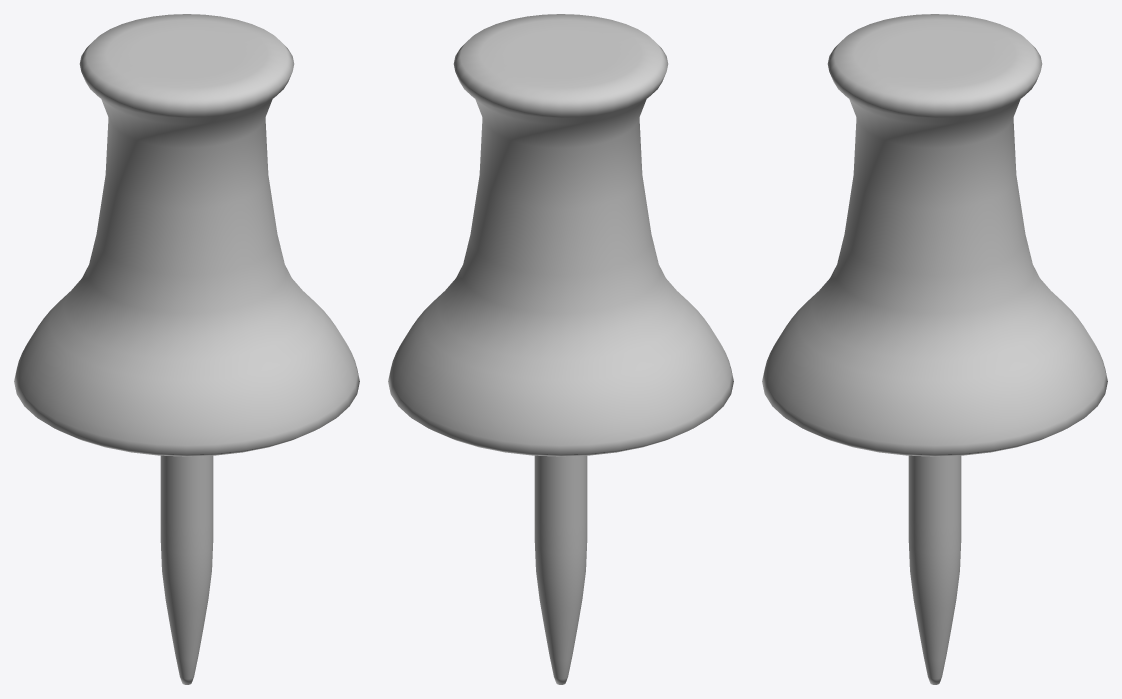
The model's file is pin.dae.
The picture shows the model from 3 angles, left to right: view 1: azimuth 30°, elevation 25°; view 2: azimuth 150°, elevation 25°; view 3: azimuth 270°, elevation 25°; orthographic projection.
Parts seen in each view (by area): view 1: Cap, nidle; view 2: Cap, nidle; view 3: Cap, nidle.
Part boxes in pixels (bbox=[...]): Cap: bbox=[14, 14, 359, 456]; nidle: bbox=[160, 455, 213, 684]; Cap: bbox=[388, 14, 733, 456]; nidle: bbox=[534, 455, 587, 684]; Cap: bbox=[762, 14, 1107, 456]; nidle: bbox=[908, 455, 961, 684].
Bounding box in the file's own units: 46.07 × 92.43 × 46.07.
2 materials, 2 textured.
